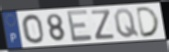8: (45, 13, 68, 42)
D: (135, 6, 161, 39)
E: (65, 8, 94, 44)
O: (21, 13, 46, 45)
Q: (113, 7, 141, 39)
Z: (90, 9, 116, 41)
